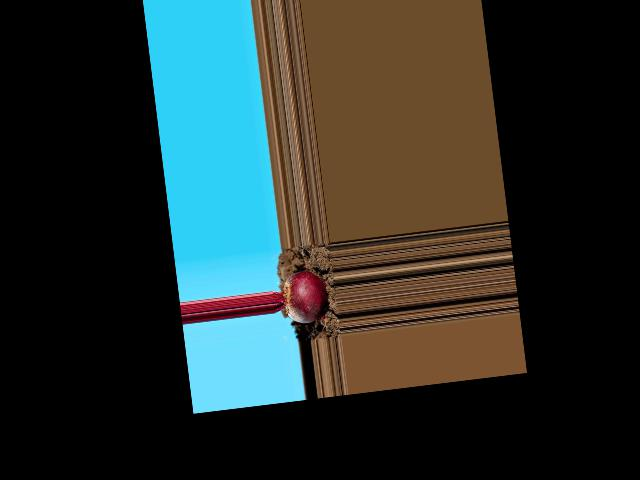beet: (270, 268, 330, 327)
